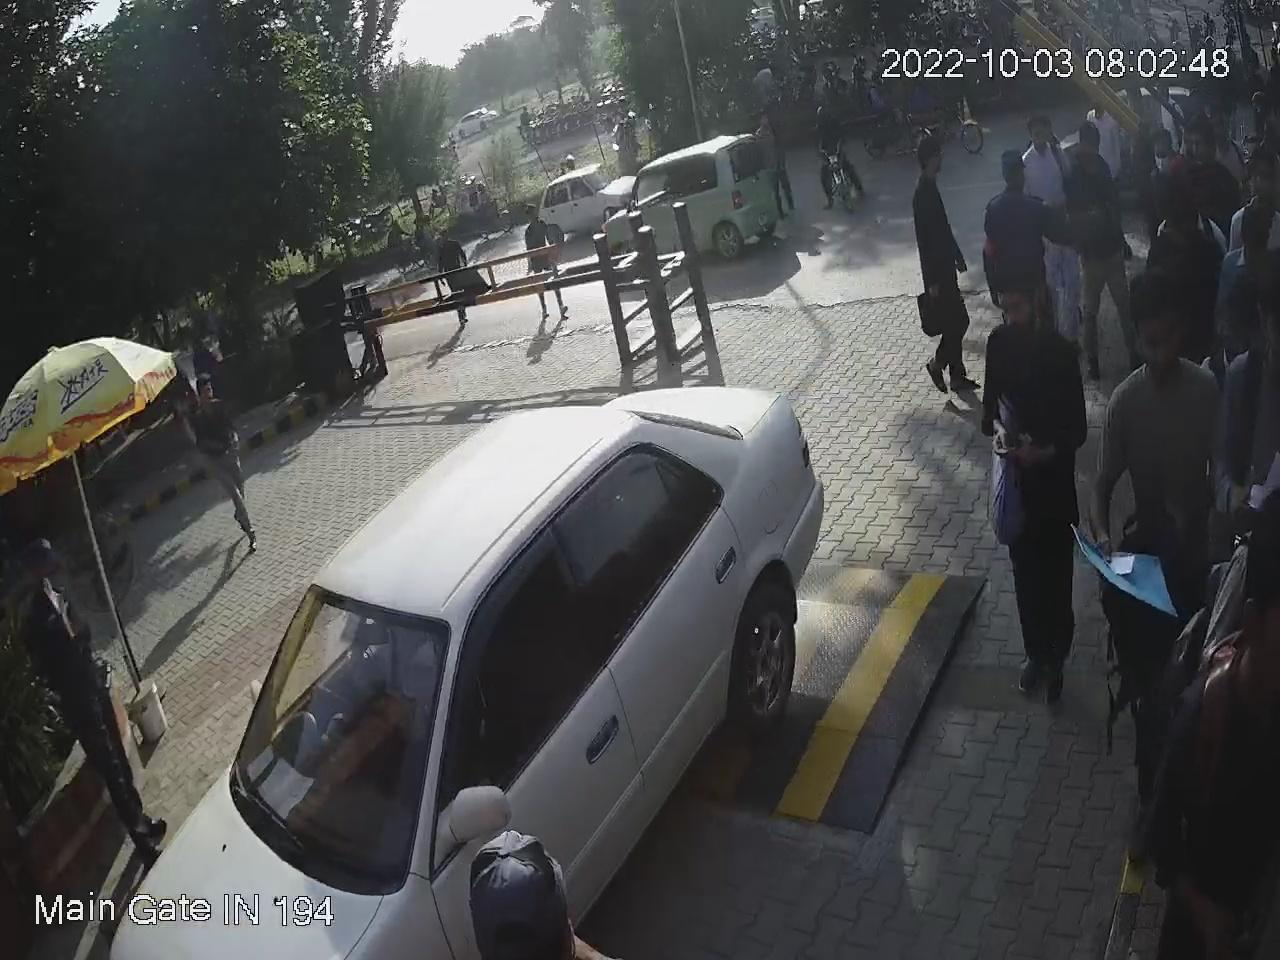windshield: (213, 573, 461, 913)
